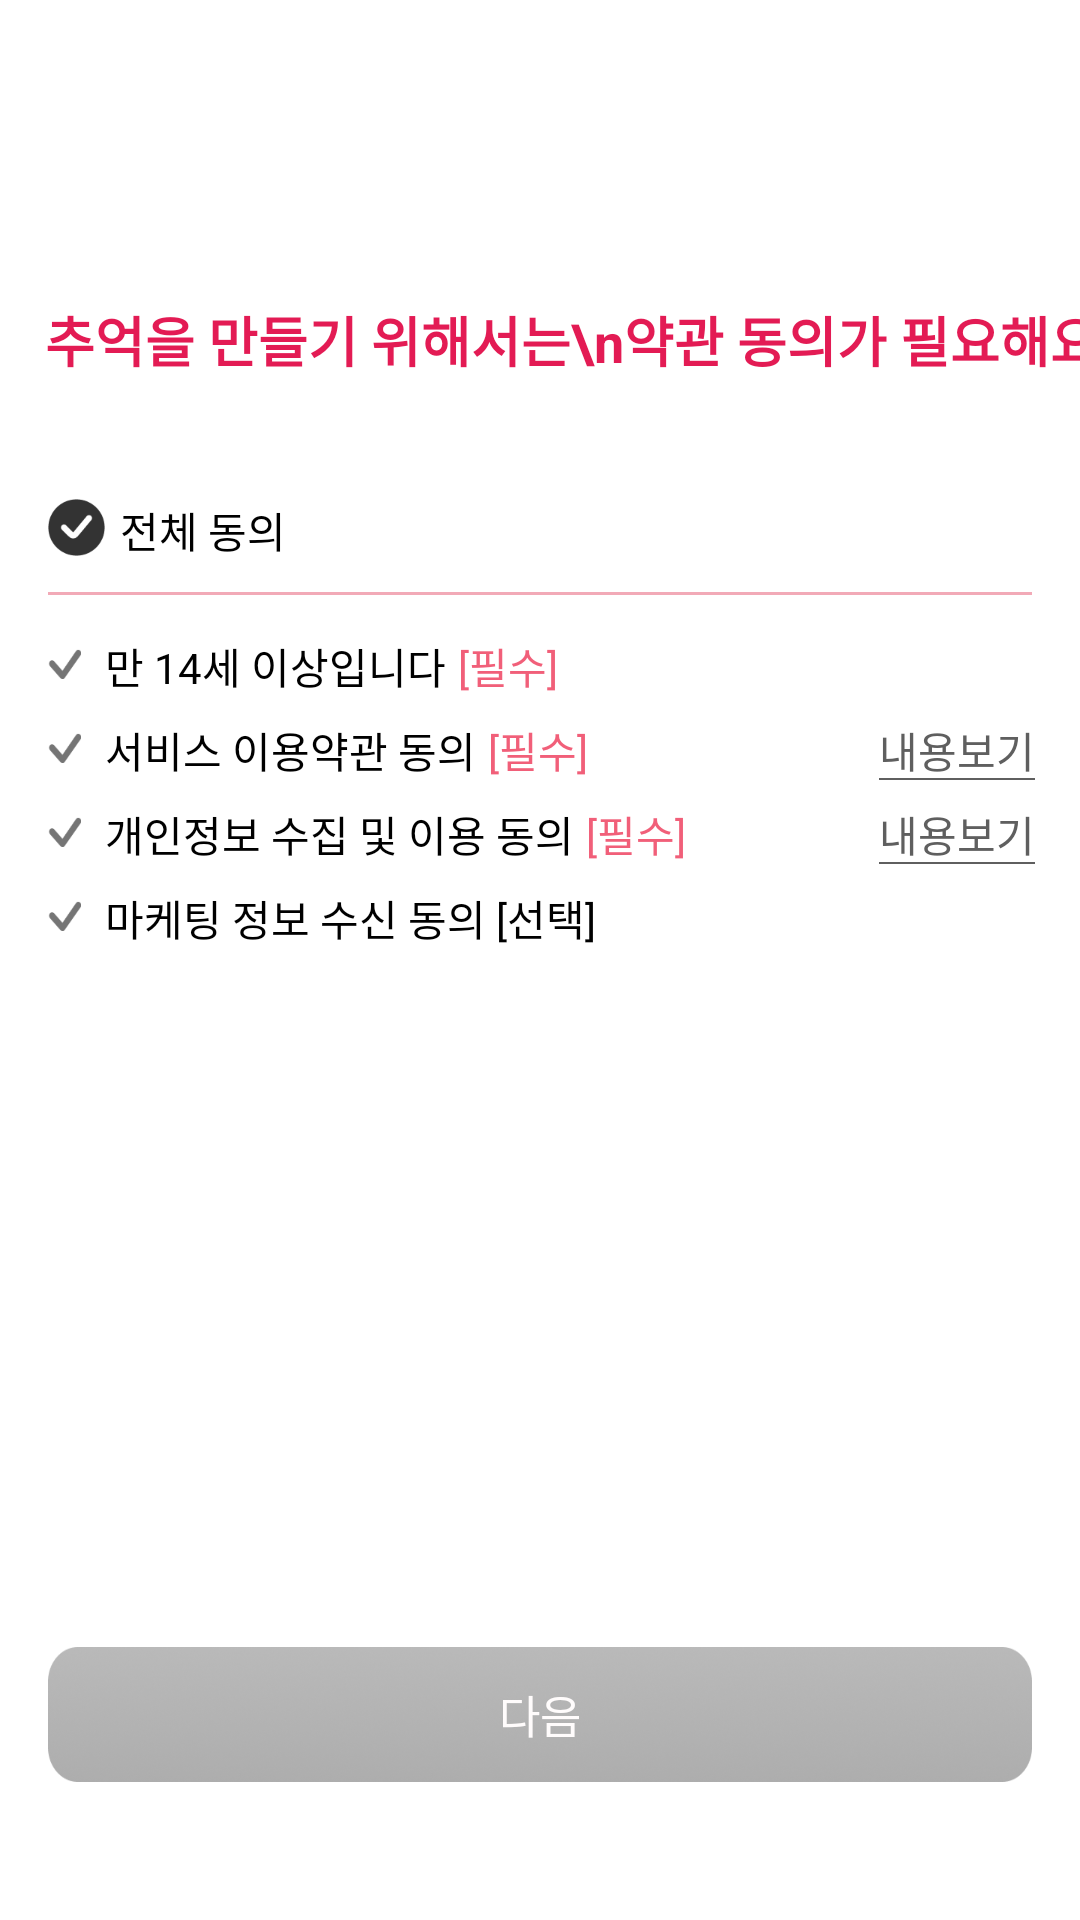

Screen size 1080px x 1920px. Icon name, then its center in pixels as [x,y]:
custom checkbox: [65,664], [65,748], [65,832], [65,916]
custom checkbox all: [76,527]
